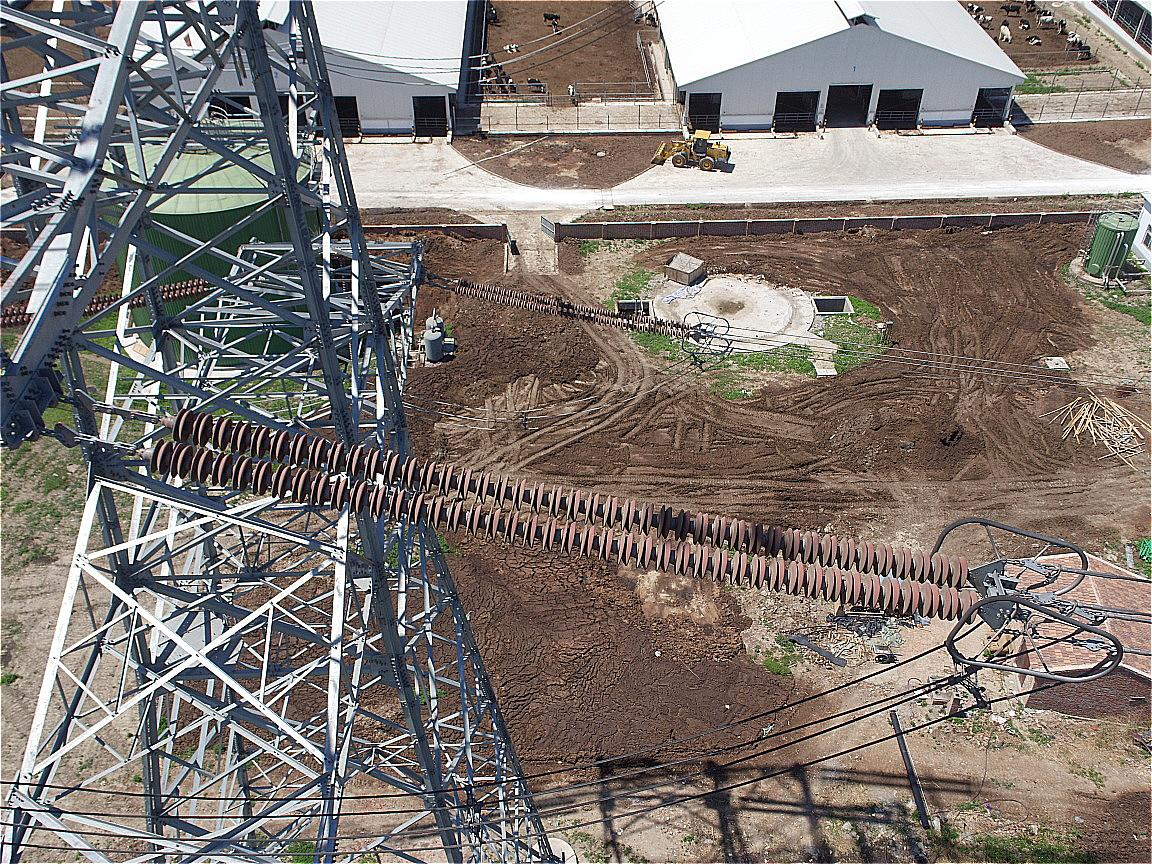insultor2: (152, 406, 980, 625), (455, 275, 692, 341)
